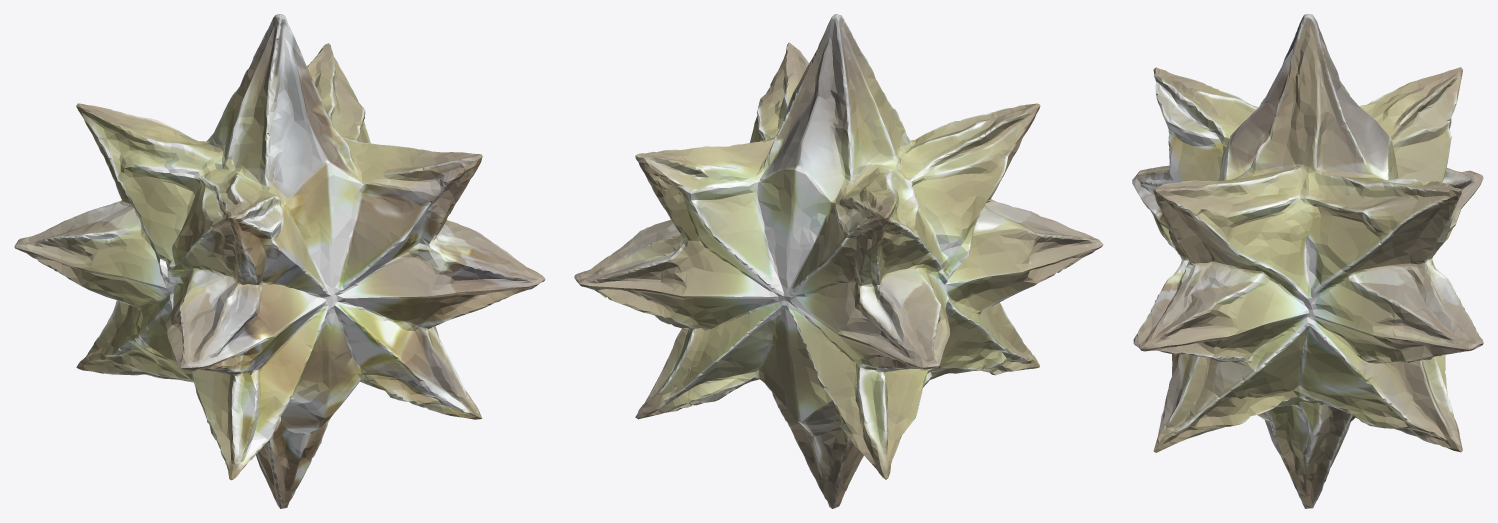
File: centroid.glb
3 views of the same model, side by side, from view 1: azimuth 30°, elevation 25°; view 2: azimuth 150°, elevation 25°; view 3: azimuth 270°, elevation 25° (orthographic).
Visible parts, largest first — view 1: tmp722t2io6.ply; view 2: tmp722t2io6.ply; view 3: tmp722t2io6.ply.
Boxes of the visible parts, bbox=[...] form: tmp722t2io6.ply: bbox=[14, 14, 545, 508]; tmp722t2io6.ply: bbox=[574, 14, 1103, 508]; tmp722t2io6.ply: bbox=[1132, 14, 1483, 508].
Size of the model in its own units: 1.54 by 1.99 by 1.29.
Materials: 1 (1 with a texture image).
